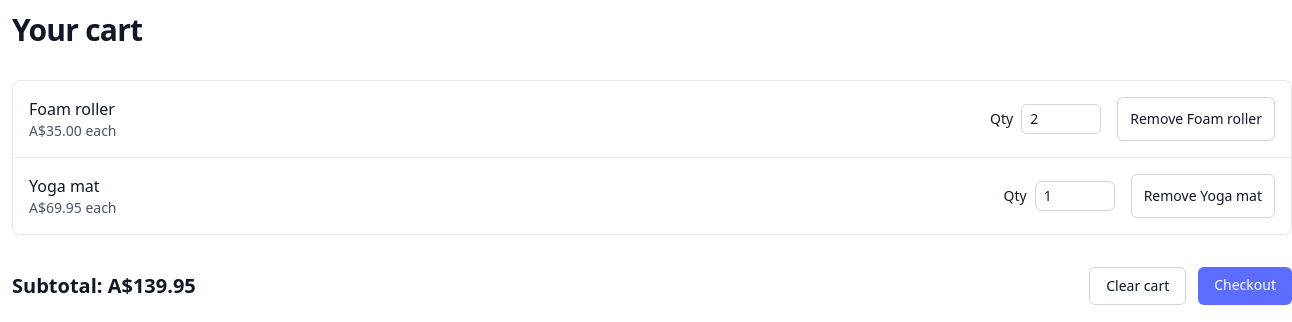
Test case: CartView › updates quantity from the cart page
The width and height of the screenshot is (1292, 322).
Replace the text in the number field named "Quantity for Foam roller" with "3" at (1061, 119), box [1021,104,1101,134]
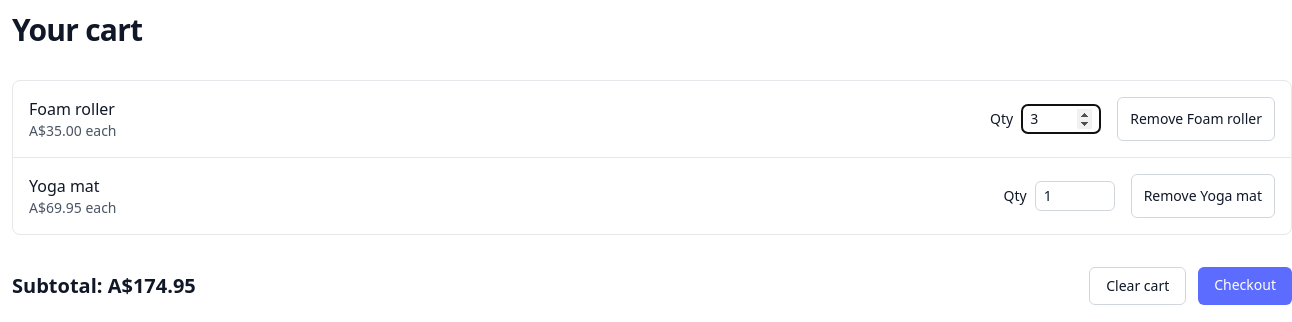
Check: the text "Subtotal: A$174.95" is shown, box [12,272,196,300]
